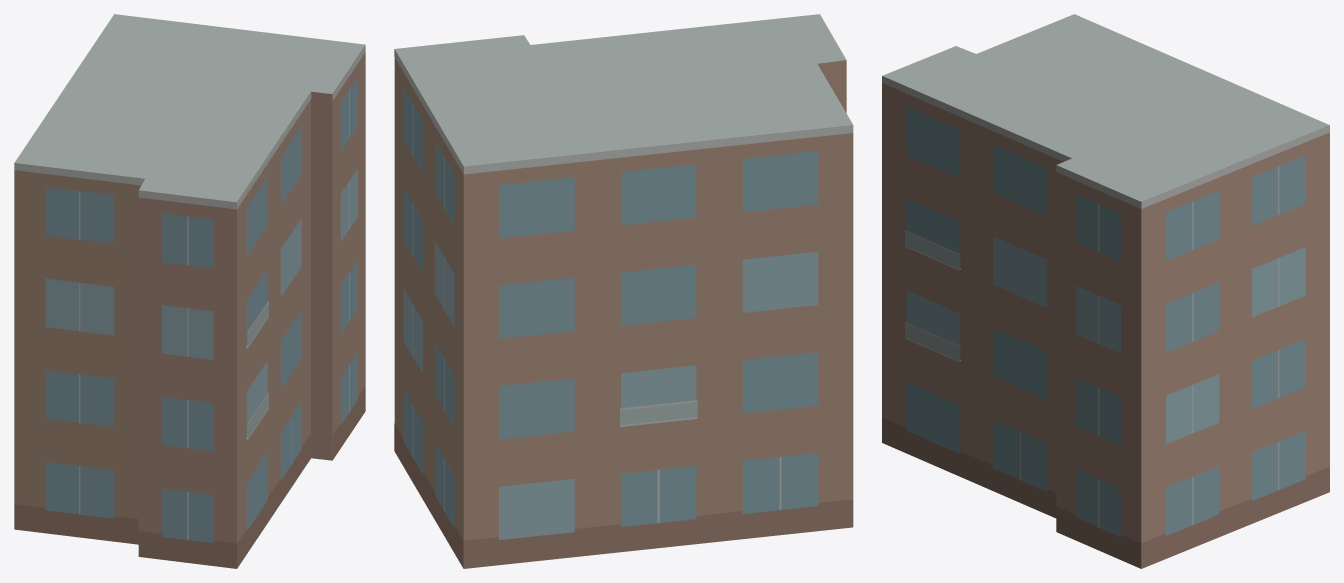
File: survey-upis-32710608.glb
The picture shows the model from 3 angles, left to right: view 1: azimuth 30°, elevation 25°; view 2: azimuth 150°, elevation 25°; view 3: azimuth 270°, elevation 25°; orthographic projection. The views are drawn at different scales.
Parts seen in each view (by area): view 1: survey-upis-32710608.tmp; view 2: survey-upis-32710608.tmp; view 3: survey-upis-32710608.tmp.
Boxes of the visible parts, <box> form: survey-upis-32710608.tmp: <box>14,14,365,568</box>; survey-upis-32710608.tmp: <box>394,14,853,568</box>; survey-upis-32710608.tmp: <box>882,14,1329,568</box>.
Size of the model in its own units: 13.74 by 12.5 by 13.83.
